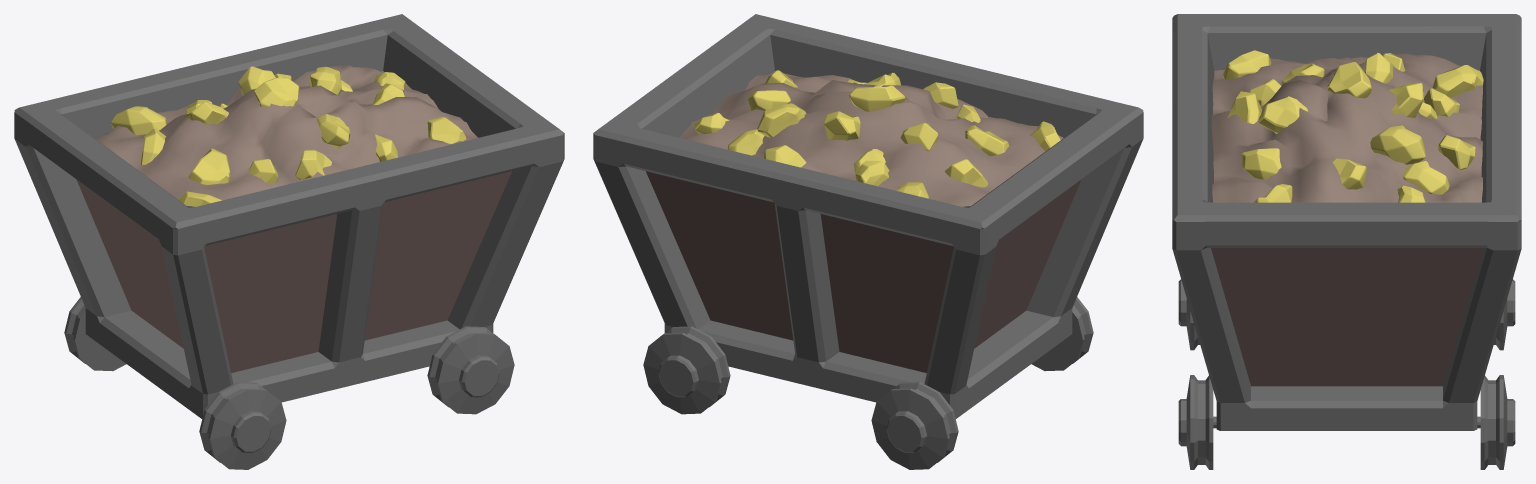
Rendered from Minecart_Gold.fbx.
The picture shows the model from 3 angles, left to right: view 1: azimuth 30°, elevation 25°; view 2: azimuth 150°, elevation 25°; view 3: azimuth 270°, elevation 25°; orthographic projection. The views are drawn at different scales.
Parts seen in each view (by area): view 1: Minecart_Gold_Dirt; view 2: Minecart_Gold_Dirt; view 3: Minecart_Gold_Dirt.
Boxes of the visible parts, <box> form: Minecart_Gold_Dirt: <box>14,14,564,469</box>; Minecart_Gold_Dirt: <box>593,14,1143,469</box>; Minecart_Gold_Dirt: <box>1172,14,1521,469</box>.
Size of the model in its own units: 247 by 186 by 177.
